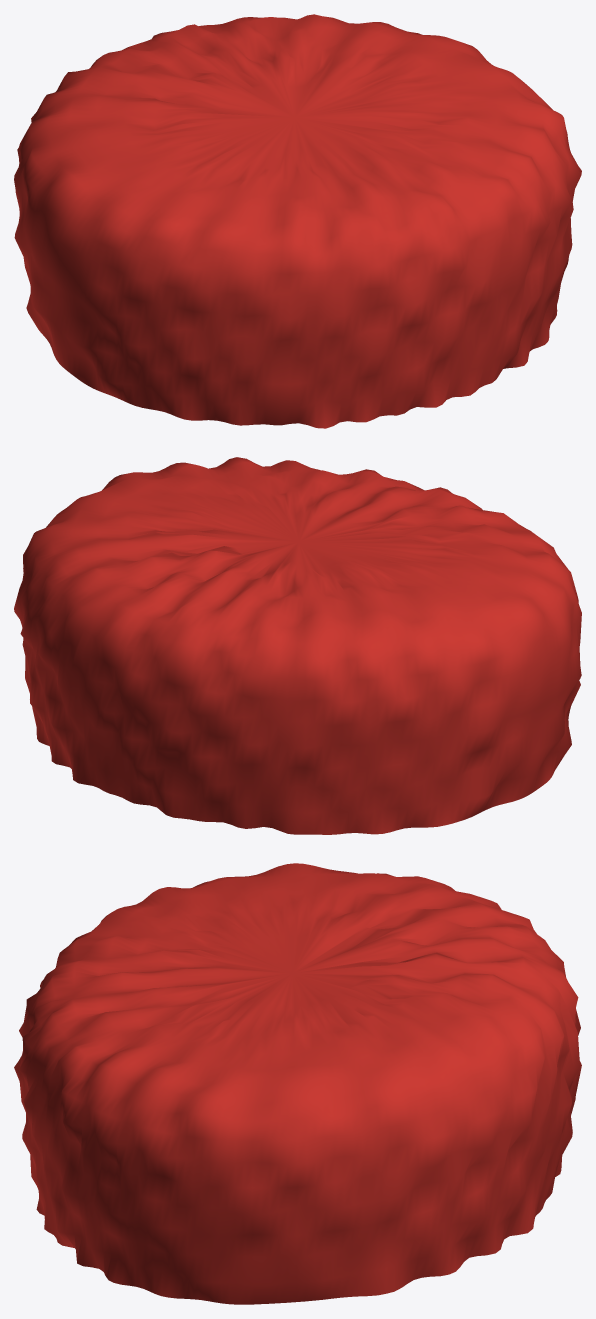
The model's file is hw_papakha.glb.
3 renders of one model, top to bottom at view 1: azimuth 30°, elevation 25°; view 2: azimuth 150°, elevation 25°; view 3: azimuth 270°, elevation 25°, orthographic. The views are drawn at different scales.
Parts seen in each view (by area): view 1: hw_papakha; view 2: hw_papakha; view 3: hw_papakha.
Part boxes in pixels (x1,y1,x2,y2): hw_papakha: [14, 14, 581, 428]; hw_papakha: [14, 457, 581, 834]; hw_papakha: [14, 863, 581, 1304].
Size of the model in its own units: 0.9461 by 0.4136 by 0.8708.
